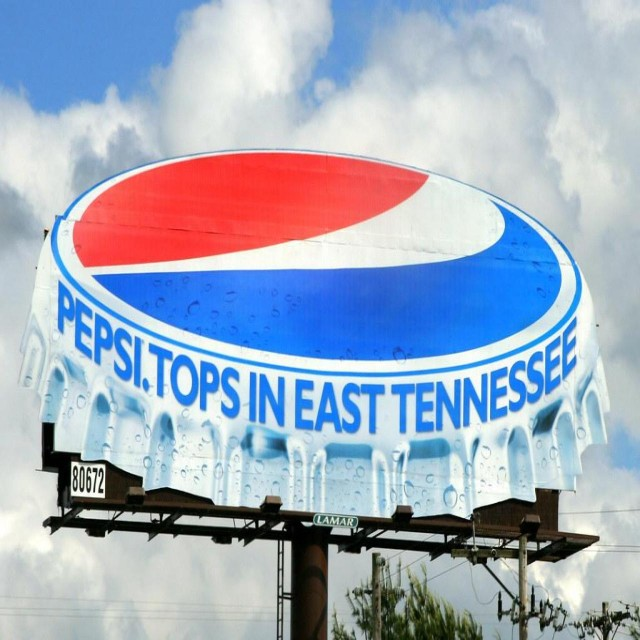pepsi: (67, 144, 567, 365)
